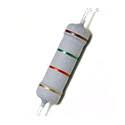resistor: (35, 14, 96, 114)
